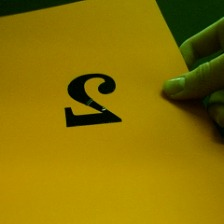orange2: (57, 70, 130, 127)
